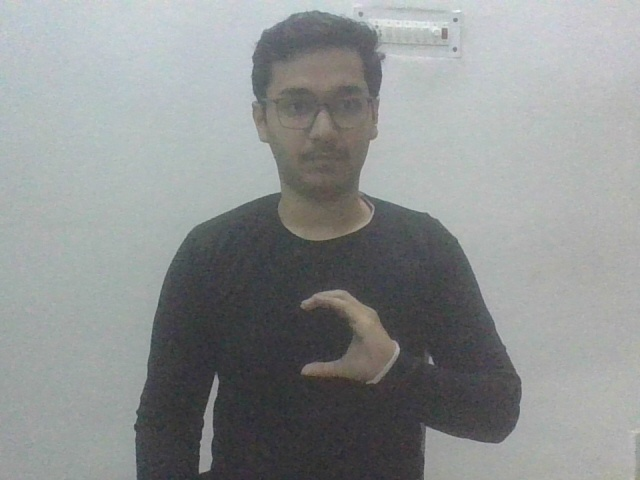C: (291, 288, 401, 391)
